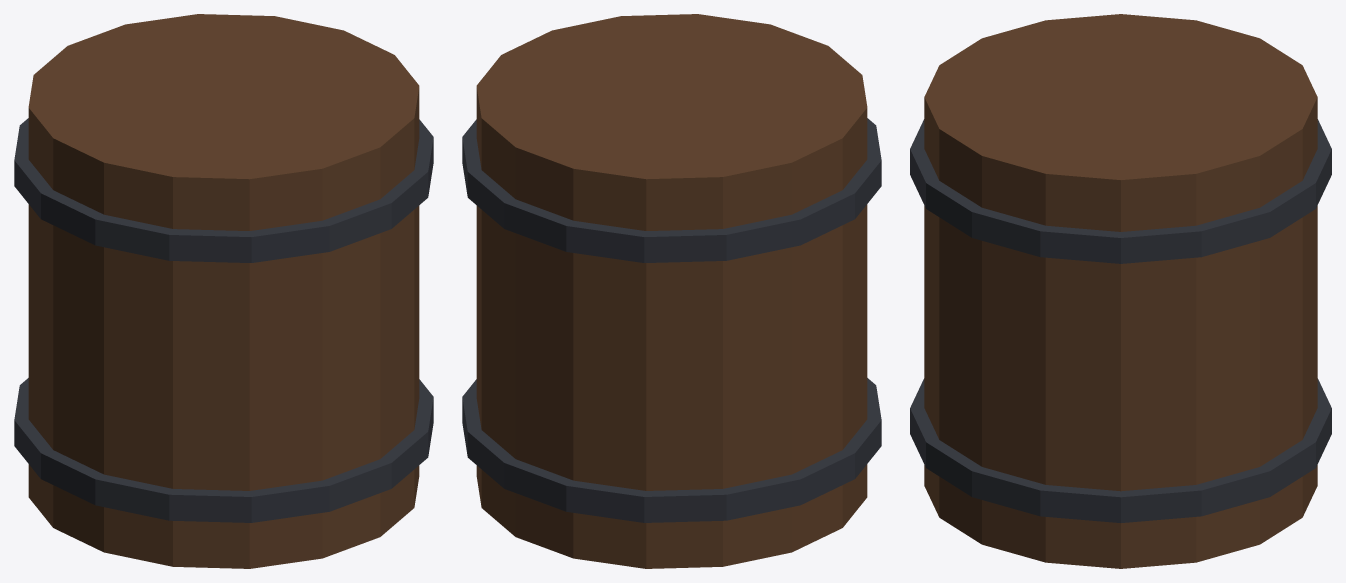
File: barrel.glb
The picture shows the model from 3 angles, left to right: view 1: azimuth 30°, elevation 25°; view 2: azimuth 150°, elevation 25°; view 3: azimuth 270°, elevation 25°; orthographic projection.
Parts seen in each view (by area): view 1: BarrelBody, HoopBottom, HoopTop; view 2: BarrelBody, HoopBottom, HoopTop; view 3: BarrelBody, HoopTop, HoopBottom.
Boxes of the visible parts, x1,y1,x2,y2 form: BarrelBody: (28,14,419,568); HoopBottom: (14,378,433,522); HoopTop: (14,118,433,262); BarrelBody: (476,14,867,568); HoopBottom: (462,378,881,522); HoopTop: (462,118,881,262); BarrelBody: (924,14,1317,568); HoopTop: (910,119,1331,263); HoopBottom: (910,378,1331,522).
Bounding box in the file's own units: 1.18 × 1.2 × 1.18.
